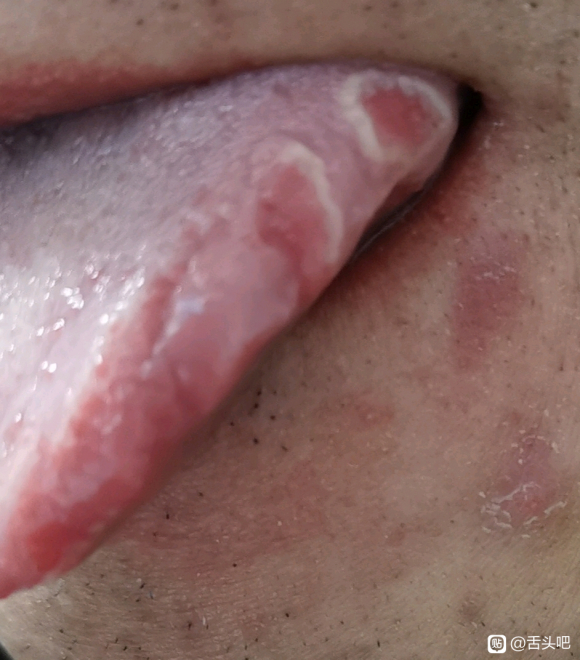baitaishe: (1, 62, 459, 602)
botaishe: (235, 62, 459, 274)
